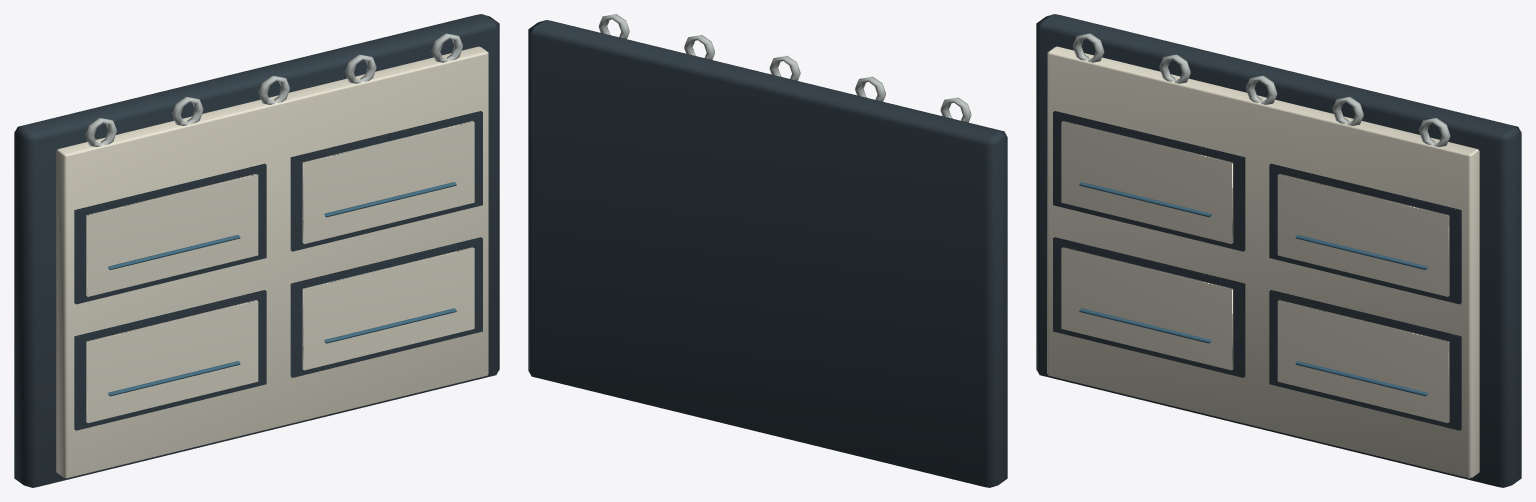
File: P073_storyboard_pad_rebuilt.glb
3 views of the same model, side by side, from view 1: azimuth 30°, elevation 25°; view 2: azimuth 150°, elevation 25°; view 3: azimuth 330°, elevation 25° (orthographic).
Parts seen in each view (by area): view 1: white, shell, silver, blue; view 2: shell, silver; view 3: white, shell, silver, blue.
Part boxes in pixels (left/top/right/bottom): white: left=56, top=46, right=488, bottom=478; shell: left=14, top=14, right=499, bottom=487; silver: left=85, top=33, right=462, bottom=146; blue: left=108, top=182, right=456, bottom=396; shell: left=528, top=20, right=1007, bottom=487; silver: left=598, top=14, right=971, bottom=122; white: left=1047, top=46, right=1479, bottom=478; shell: left=1036, top=14, right=1521, bottom=487; silver: left=1073, top=33, right=1450, bottom=146; blue: left=1079, top=182, right=1427, bottom=396.
Size of the model in its own units: 0.3 by 0.22 by 0.04.
